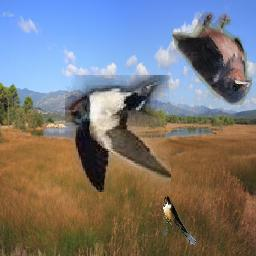Swallow: (65, 76, 171, 193), (172, 13, 252, 106), (164, 195, 197, 245)
